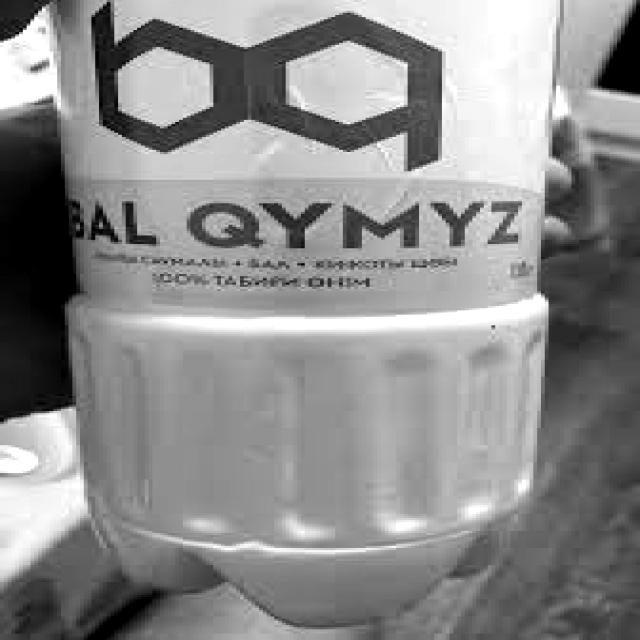balqymyz: (56, 0, 526, 269)
